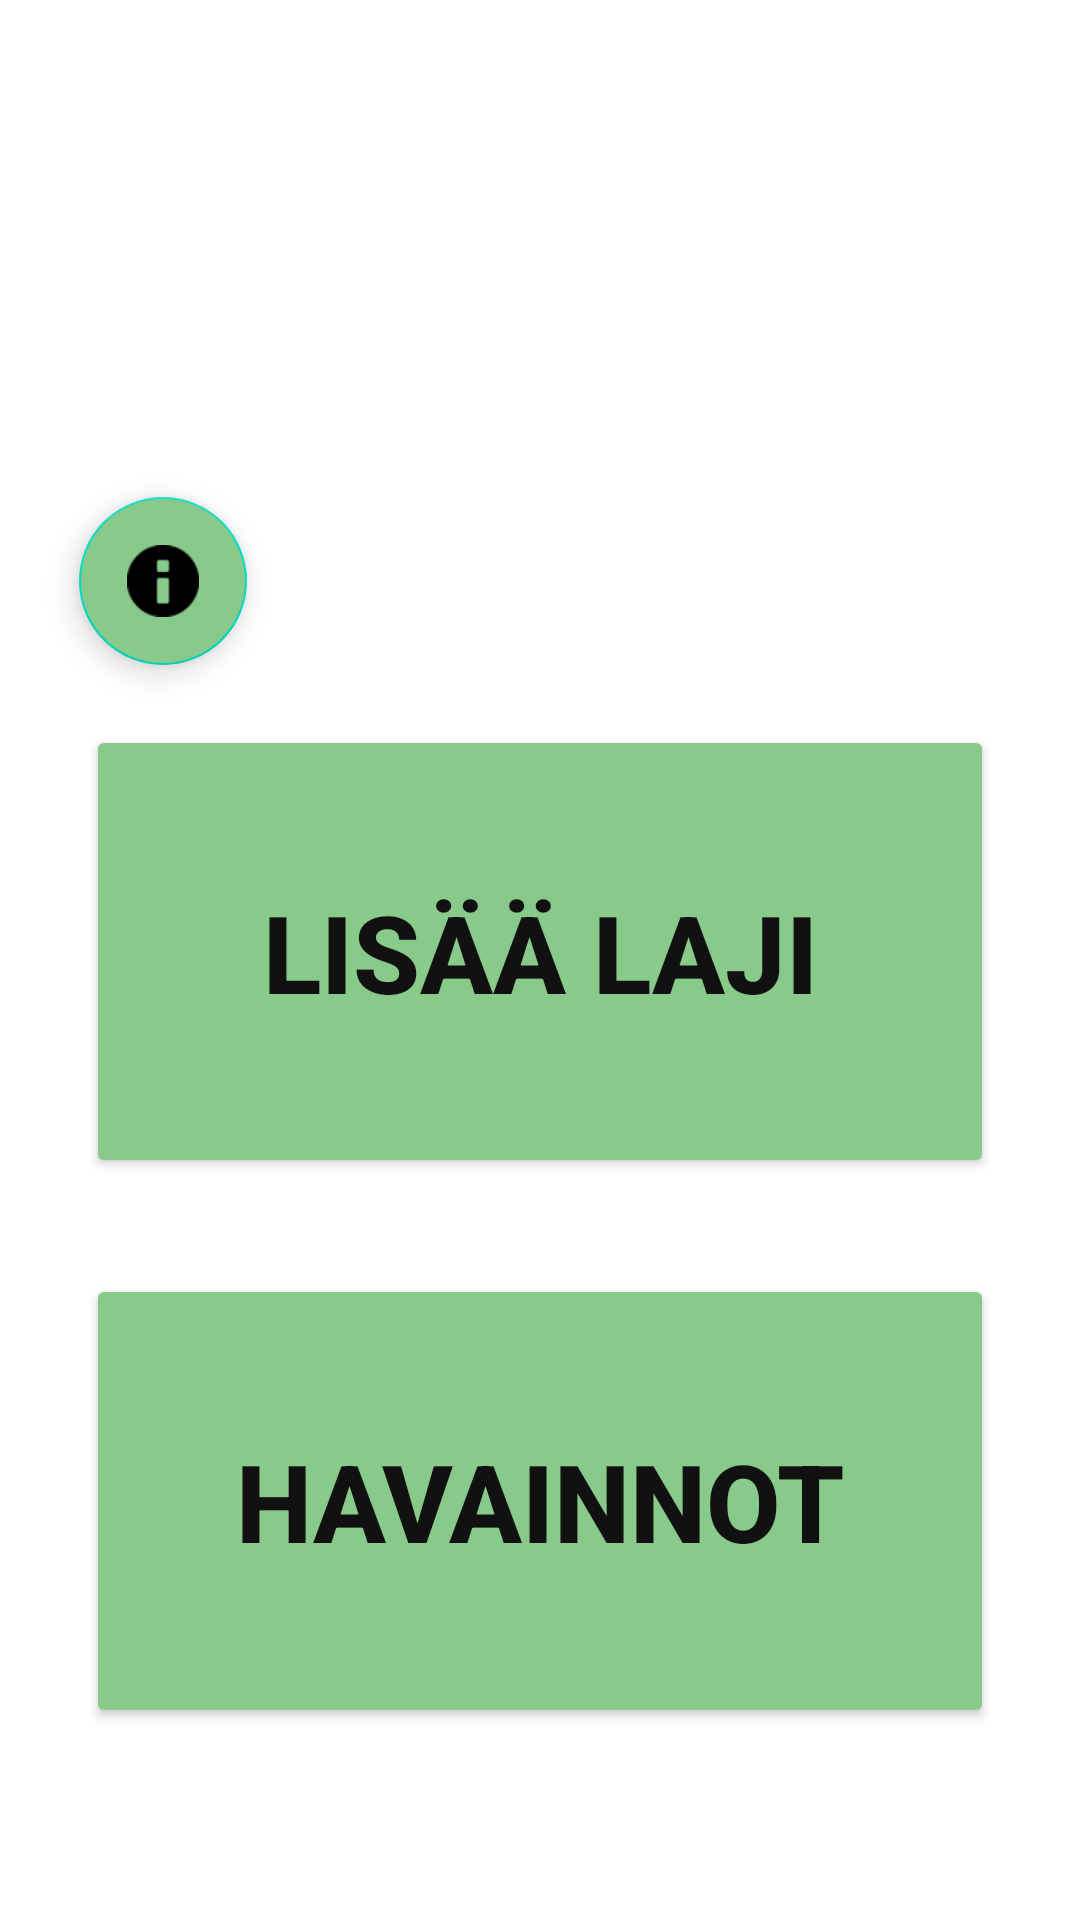

Where icons sit on this 1080*1920 app screen, as (x1, y1, x2, y2):
info: (79, 497, 247, 665)
